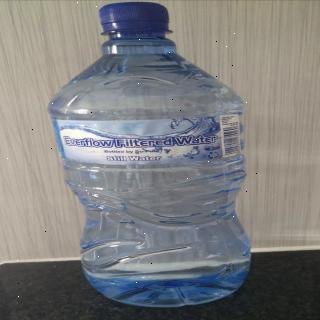Plastic-bottle: (37, 1, 267, 311)
